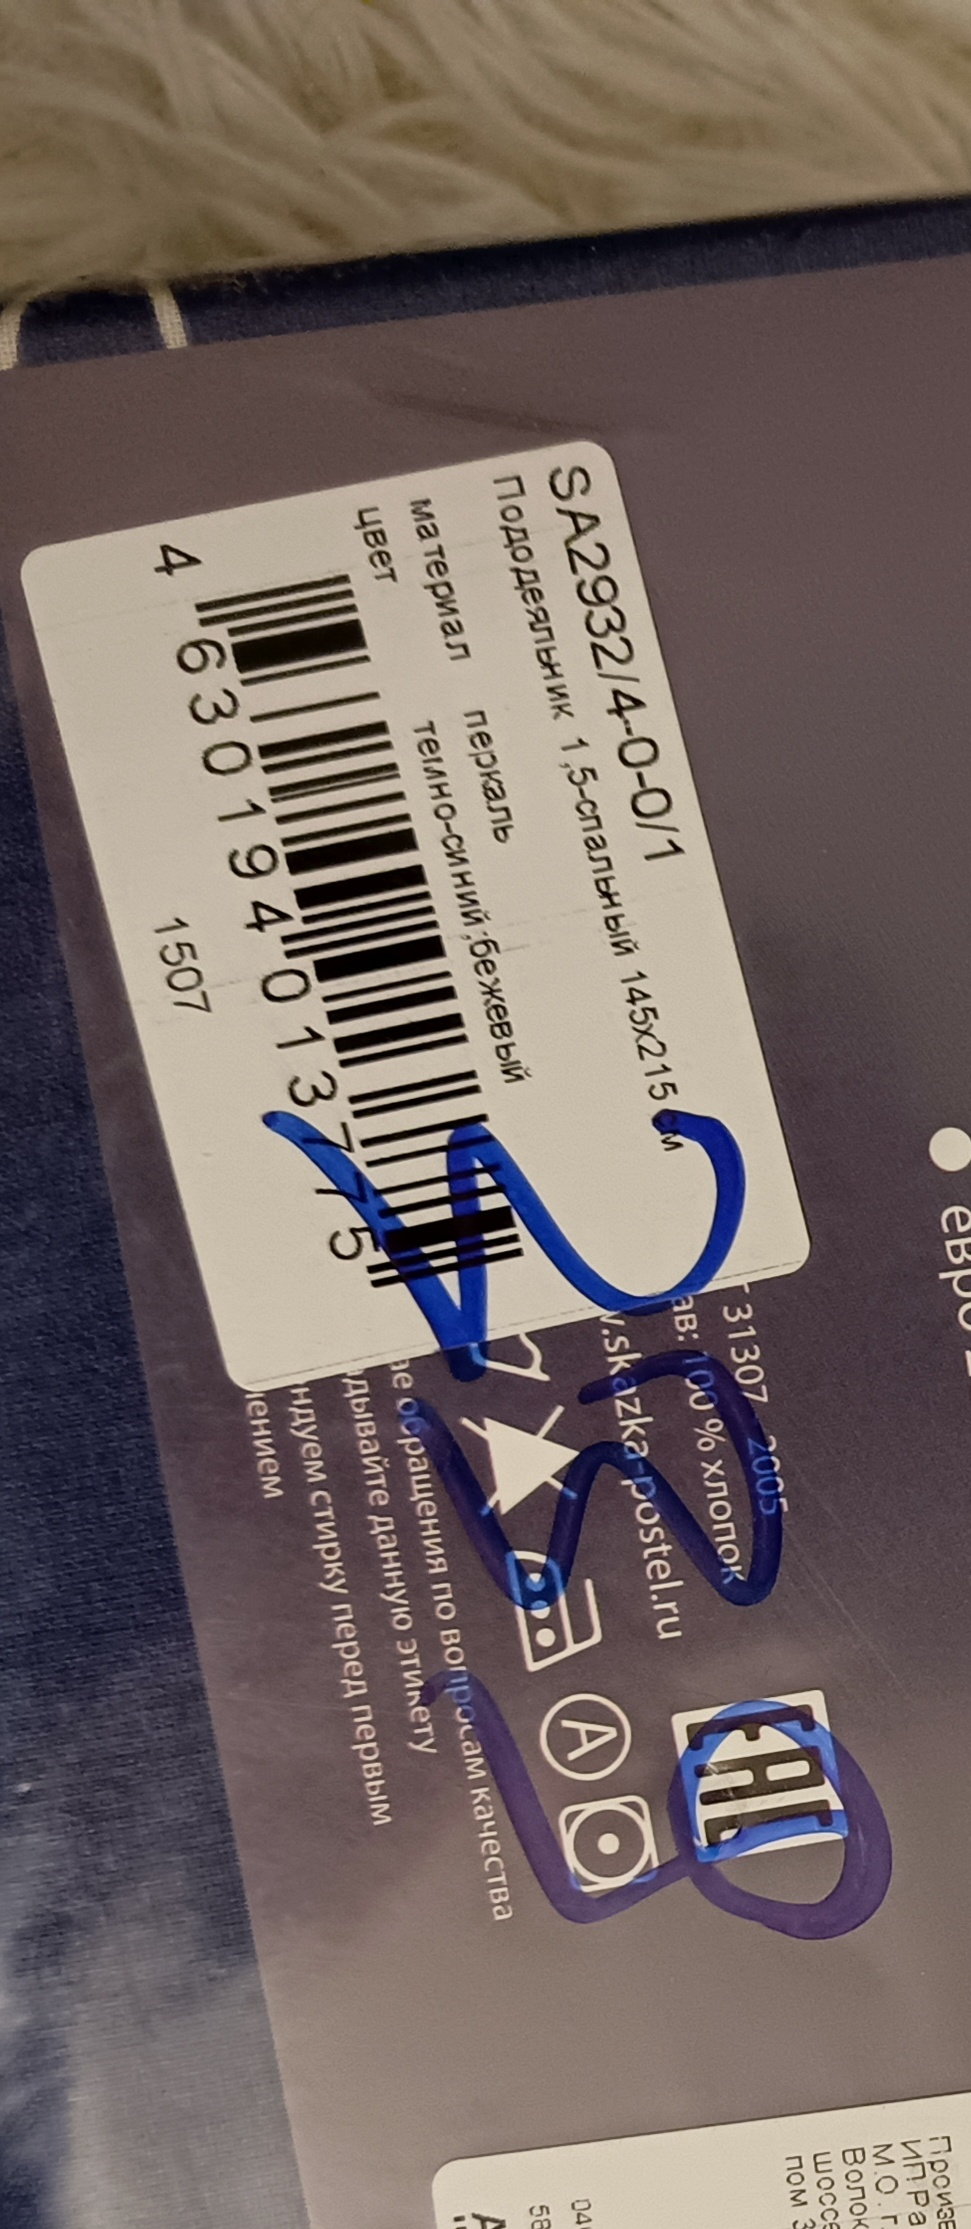1d: (216, 566, 532, 1294)
